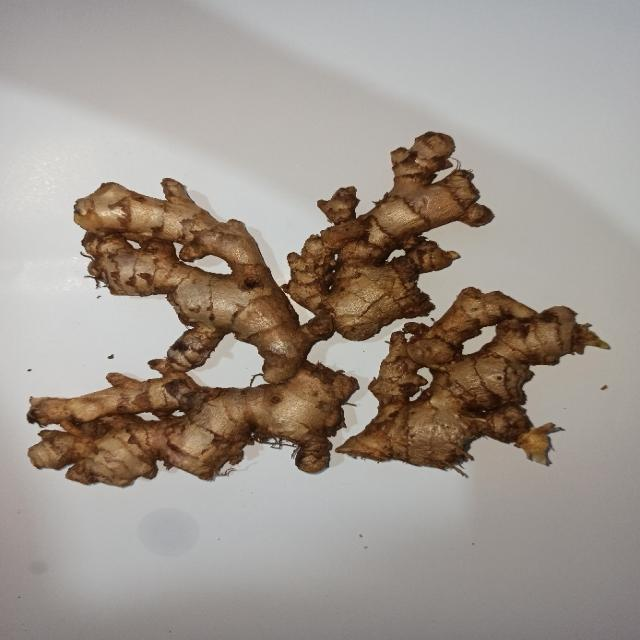ginger: (75, 177, 303, 366), (355, 288, 594, 468), (28, 360, 352, 490), (299, 133, 483, 318)
